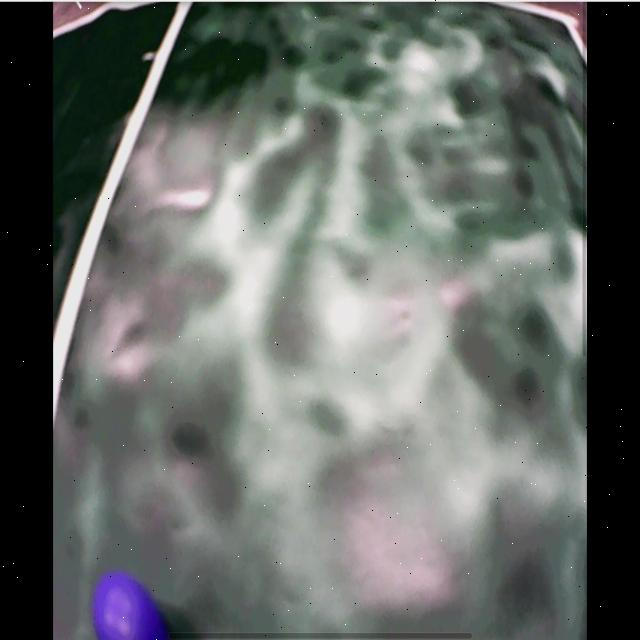ball: (92, 574, 163, 640)
